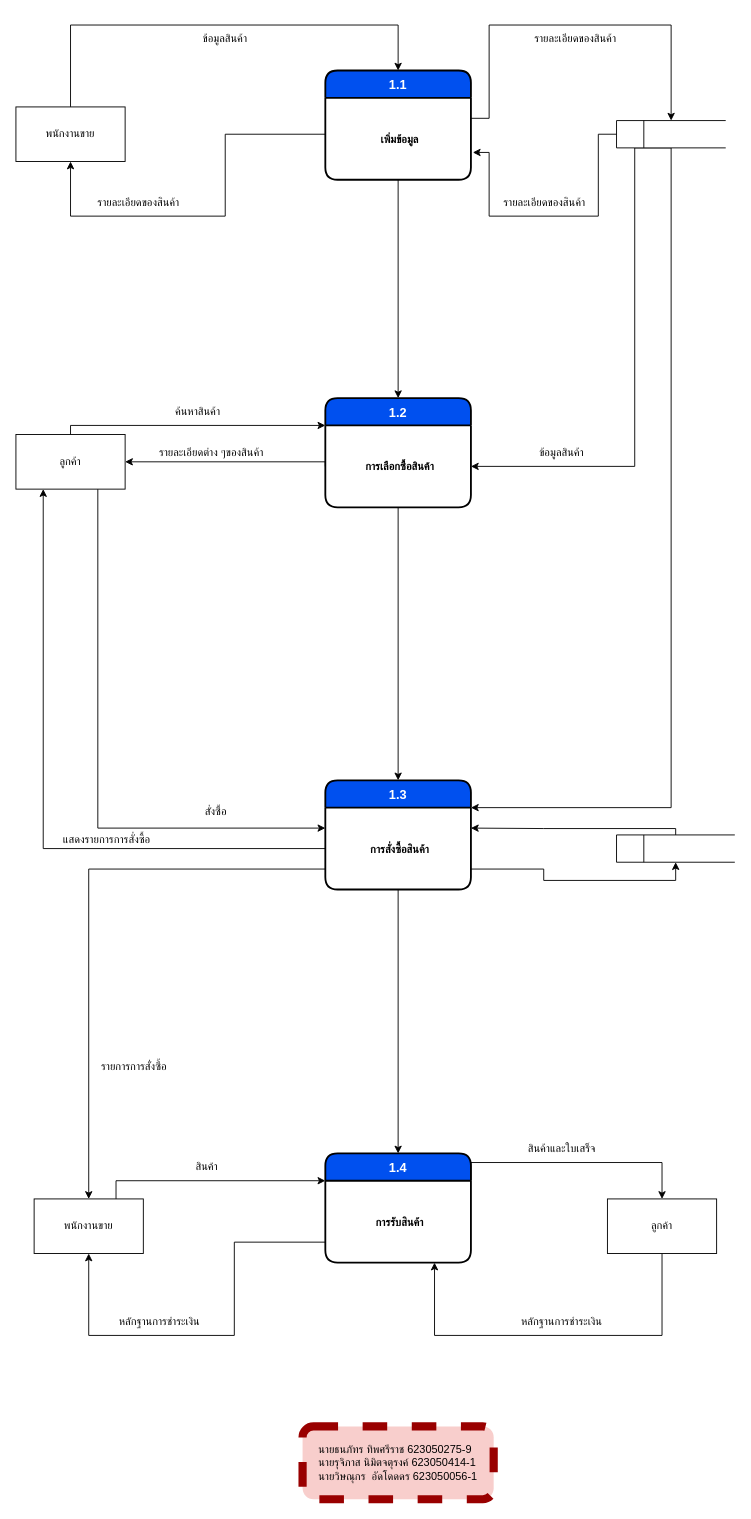
Image size: 751x1519. Some labels were removed from this diagram. Each missing label, with the centre of its shape:
"D1 ข้อมูลสินค้า" belongs at [671,134].
"D2 หนังสือสั่งซ์้อ" belongs at [675,848].
